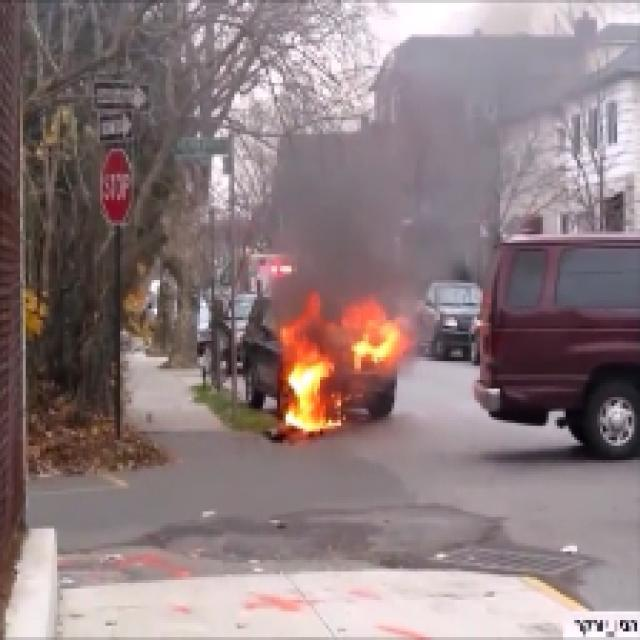Fire: (288, 309, 400, 426)
Smoke: (284, 132, 478, 280)
